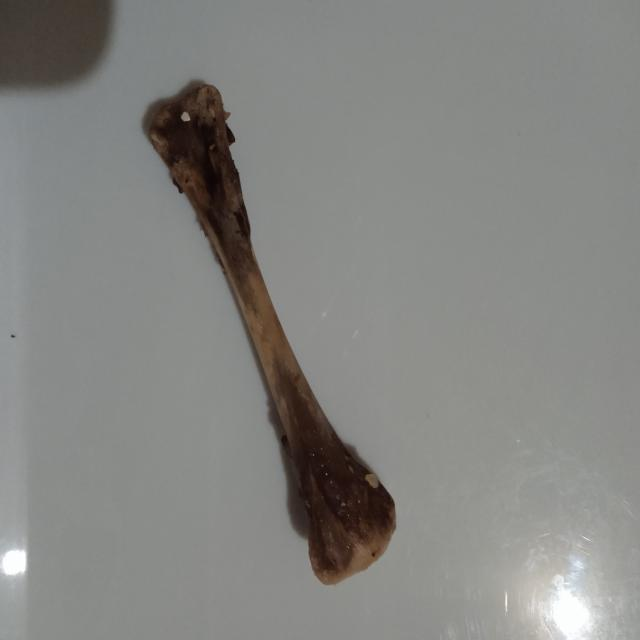bone: (140, 76, 402, 600)
